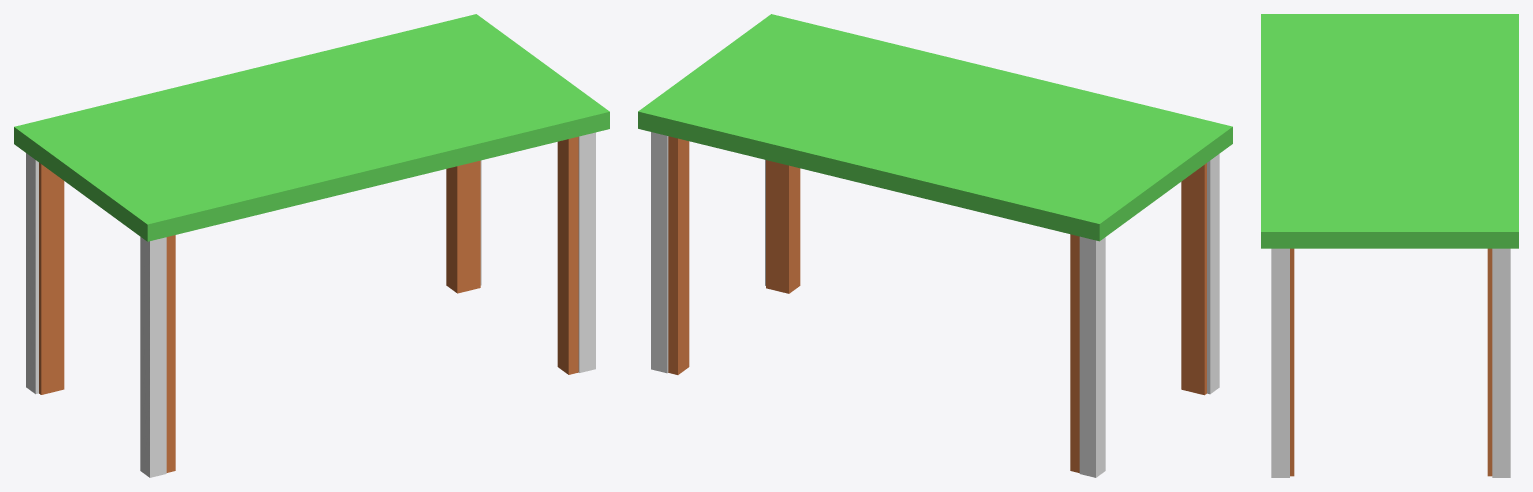
3 renders of one model, left to right at view 1: azimuth 30°, elevation 25°; view 2: azimuth 150°, elevation 25°; view 3: azimuth 270°, elevation 25°, orthographic. The views are drawn at different scales.
Parts seen in each view (by area): view 1: EsKeYMoZ_Lesson3_Exercise2_Table_7, EsKeYMoZ_Lesson3_Exercise2_Platte_2, EsKeYMoZ_Lesson3_Exercise2_Bein3_5, EsKeYMoZ_Lesson3_Exercise2_Bein4_6, EsKeYMoZ_Lesson3_Exercise2_Bein2_4; view 2: EsKeYMoZ_Lesson3_Exercise2_Table_7, EsKeYMoZ_Lesson3_Exercise2_Bein2_4, EsKeYMoZ_Lesson3_Exercise2_Platte_2, EsKeYMoZ_Lesson3_Exercise2_Bein1_3, EsKeYMoZ_Lesson3_Exercise2_Bein3_5; view 3: EsKeYMoZ_Lesson3_Exercise2_Table_7, EsKeYMoZ_Lesson3_Exercise2_Bein1_3, EsKeYMoZ_Lesson3_Exercise2_Bein4_6, EsKeYMoZ_Lesson3_Exercise2_Platte_2.
Part boxes in pixels (x1,y1,x2,y2): EsKeYMoZ_Lesson3_Exercise2_Table_7: (14,14,609,472); EsKeYMoZ_Lesson3_Exercise2_Platte_2: (14,118,609,241); EsKeYMoZ_Lesson3_Exercise2_Bein3_5: (140,237,166,477); EsKeYMoZ_Lesson3_Exercise2_Bein4_6: (578,132,595,372); EsKeYMoZ_Lesson3_Exercise2_Bein2_4: (26,153,38,394); EsKeYMoZ_Lesson3_Exercise2_Table_7: (638,14,1232,472); EsKeYMoZ_Lesson3_Exercise2_Bein2_4: (1079,236,1105,477); EsKeYMoZ_Lesson3_Exercise2_Platte_2: (638,122,1232,241); EsKeYMoZ_Lesson3_Exercise2_Bein1_3: (651,132,668,373); EsKeYMoZ_Lesson3_Exercise2_Bein3_5: (1207,154,1219,394); EsKeYMoZ_Lesson3_Exercise2_Table_7: (1261,14,1518,476); EsKeYMoZ_Lesson3_Exercise2_Bein1_3: (1492,248,1510,477); EsKeYMoZ_Lesson3_Exercise2_Bein4_6: (1271,248,1289,477); EsKeYMoZ_Lesson3_Exercise2_Platte_2: (1261,238,1518,248).
Size of the model in its own units: 1.4 by 0.75 by 0.7.
